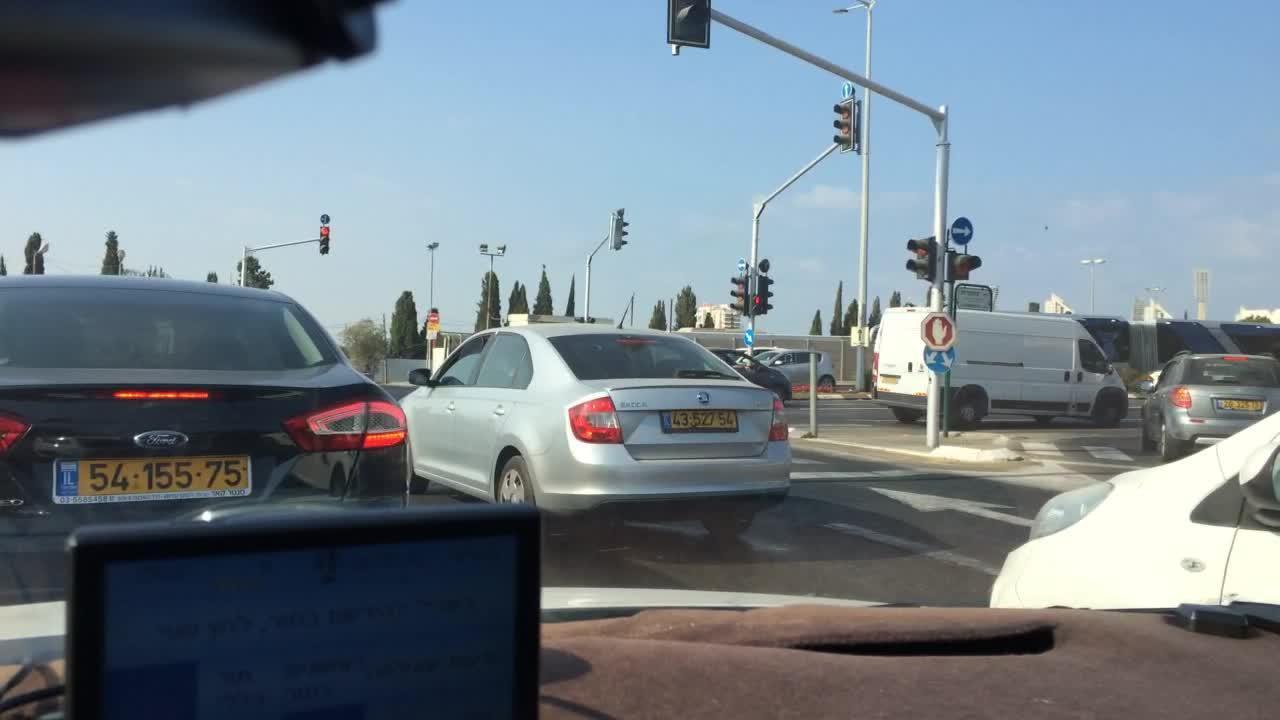ford: (138, 424, 190, 458)
skoda: (694, 384, 719, 408)
